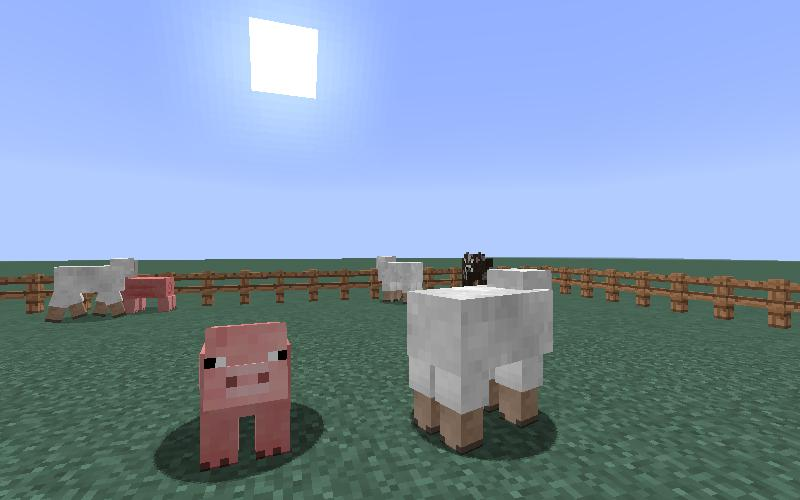cow: (460, 252, 494, 284)
pig: (191, 315, 297, 476), (125, 275, 178, 315)
sheep: (402, 263, 560, 458), (42, 251, 139, 330), (373, 253, 427, 301)
